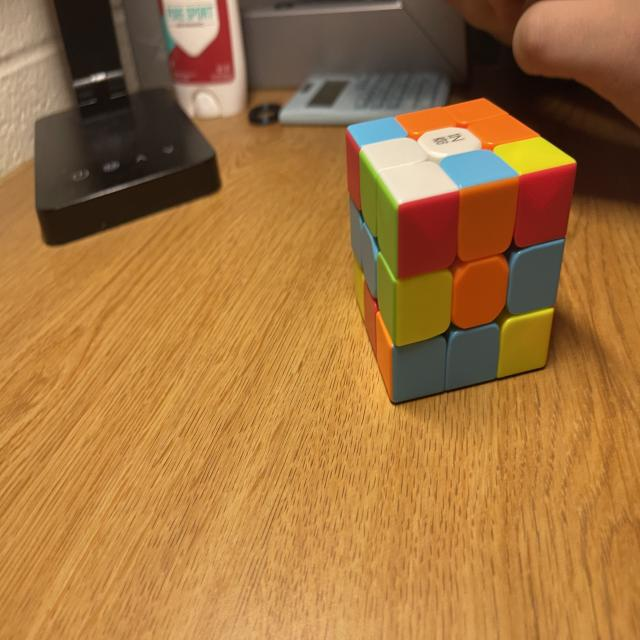Rubiks Cube: (346, 96, 576, 404)
